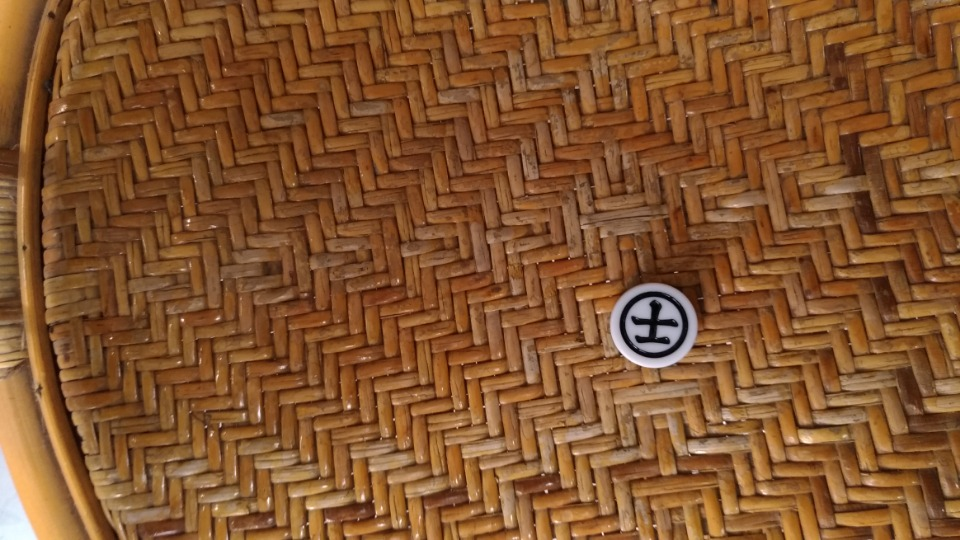b-advisor: (610, 283, 714, 386)
